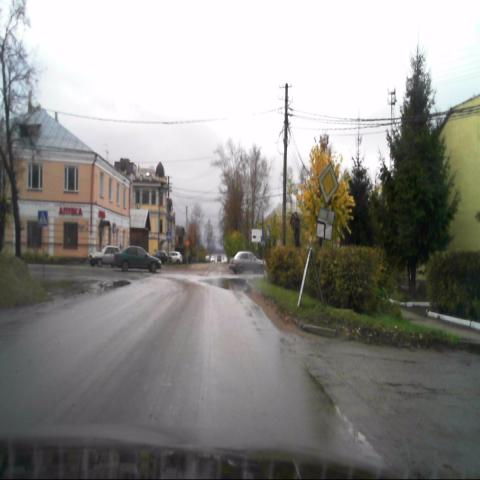8_13: (316, 208, 334, 240)
